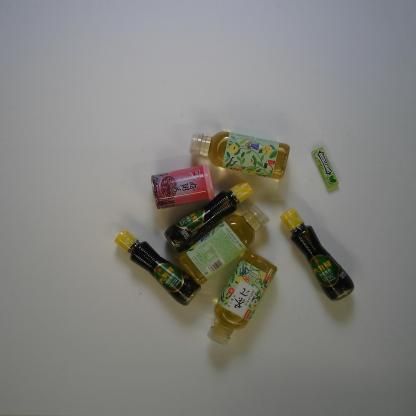Canned Food: (151, 162, 215, 212)
Drink: (178, 202, 271, 285), (205, 249, 278, 350), (188, 130, 291, 183)
Gum: (310, 146, 340, 192)
Seasoner: (278, 207, 356, 303), (113, 227, 202, 306), (164, 179, 256, 254)
